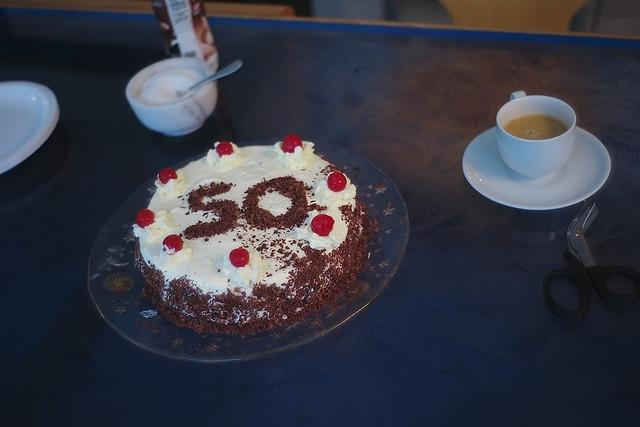cherry: (310, 214, 334, 237), (282, 133, 304, 154), (230, 246, 250, 267), (162, 234, 184, 252), (327, 172, 346, 192), (136, 209, 155, 228), (159, 168, 178, 185), (216, 141, 234, 158)
